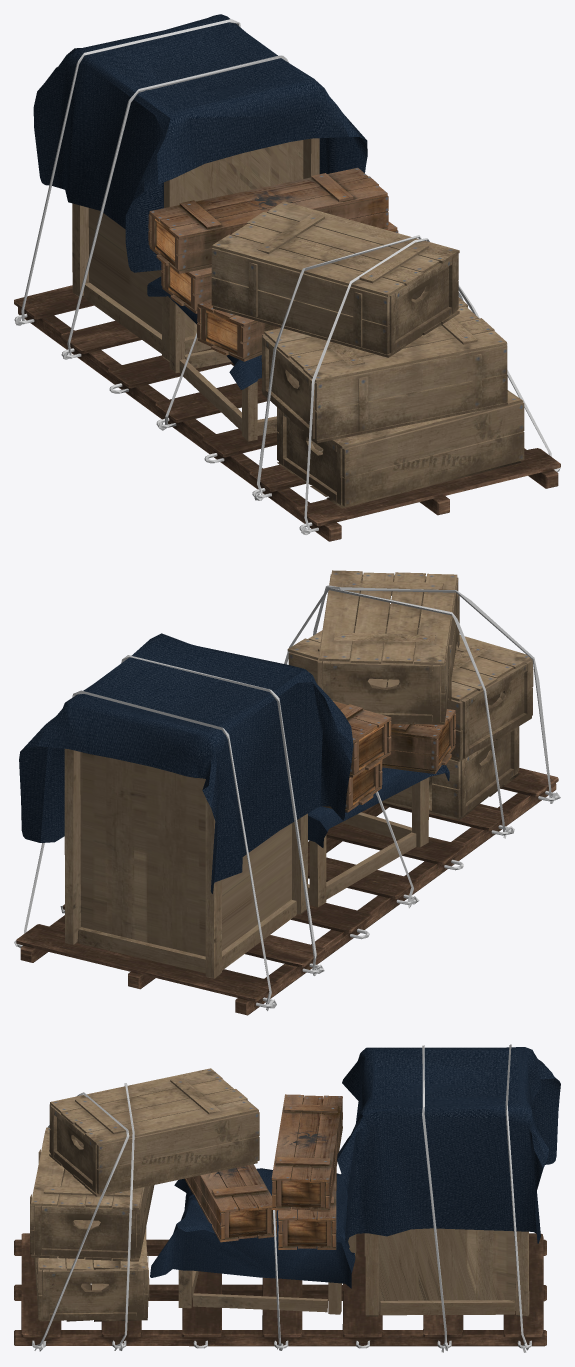
File: Vali.fbx
3 renders of one model, top to bottom at view 1: azimuth 30°, elevation 25°; view 2: azimuth 150°, elevation 25°; view 3: azimuth 270°, elevation 25°, orthographic. The views are drawn at different scales.
Parts seen in each view (by area): view 1: Plane_003_cloth_0, Cube_005_handle_crate_0, Cube_006_handle_crate_0, Cube_002_palet_0, Cube_004_handle_crate_0, Plane_001_biggest_box_0, Cube_003_thin_box_0, Plane_big_box_0, Cube_008_thin_box_0, Cube_007_thin_box_0, BezierCurve_002_rope_0, BezierCurve_rope_0 (+3 smaller); view 2: Plane_003_cloth_0, Plane_001_biggest_box_0, Cube_002_palet_0, Cube_005_handle_crate_0, Cube_006_handle_crate_0, Cube_004_handle_crate_0, Plane_big_box_0, Cube_008_thin_box_0, Cube_003_thin_box_0, Plane_002_cloth_0, BezierCurve_005_rope_0, BezierCurve_002_rope_0 (+3 smaller); view 3: Plane_003_cloth_0, Cube_002_palet_0, Cube_005_handle_crate_0, Plane_001_biggest_box_0, Cube_006_handle_crate_0, Plane_002_cloth_0, Cube_003_thin_box_0, Cube_004_handle_crate_0, Cube_008_thin_box_0, Plane_big_box_0, Cube_007_thin_box_0, BezierCurve_002_rope_0 (+4 smaller).
Boxes of the visible parts, x1,y1,x2,y2 form: Plane_003_cloth_0: [33, 14, 367, 272]; Cube_005_handle_crate_0: [211, 201, 459, 357]; Cube_006_handle_crate_0: [261, 297, 507, 442]; Cube_002_palet_0: [14, 285, 560, 541]; Cube_004_handle_crate_0: [277, 390, 524, 508]; Plane_001_biggest_box_0: [72, 138, 319, 361]; Cube_003_thin_box_0: [148, 167, 388, 273]; Plane_big_box_0: [169, 298, 277, 441]; Cube_008_thin_box_0: [197, 298, 280, 361]; Cube_007_thin_box_0: [161, 222, 398, 313]; BezierCurve_002_rope_0: [63, 55, 288, 359]; BezierCurve_rope_0: [301, 238, 560, 534]; Plane_003_cloth_0: [19, 633, 353, 893]; Plane_001_biggest_box_0: [64, 748, 307, 978]; Cube_002_palet_0: [16, 763, 558, 1015]; Cube_005_handle_crate_0: [317, 570, 459, 724]; Cube_006_handle_crate_0: [287, 630, 533, 761]; Cube_004_handle_crate_0: [382, 726, 520, 819]; Plane_big_box_0: [308, 777, 428, 907]; Cube_008_thin_box_0: [382, 709, 455, 773]; Cube_003_thin_box_0: [333, 701, 391, 777]; Plane_002_cloth_0: [308, 765, 449, 847]; BezierCurve_005_rope_0: [14, 690, 276, 1010]; BezierCurve_002_rope_0: [60, 655, 324, 975]; Plane_003_cloth_0: [337, 1047, 560, 1243]; Cube_002_palet_0: [14, 1233, 546, 1346]; Cube_005_handle_crate_0: [49, 1068, 259, 1196]; Plane_001_biggest_box_0: [364, 1228, 529, 1316]; Cube_006_handle_crate_0: [30, 1127, 154, 1261]; Plane_002_cloth_0: [150, 1168, 355, 1288]; Cube_003_thin_box_0: [271, 1094, 342, 1211]; Cube_004_handle_crate_0: [34, 1225, 149, 1321]; Cube_008_thin_box_0: [184, 1164, 276, 1242]; Plane_big_box_0: [178, 1234, 356, 1314]; Cube_007_thin_box_0: [278, 1168, 336, 1249]; BezierCurve_002_rope_0: [422, 1045, 448, 1352].
Bounding box in the file's own units: 194 × 189 × 410.
